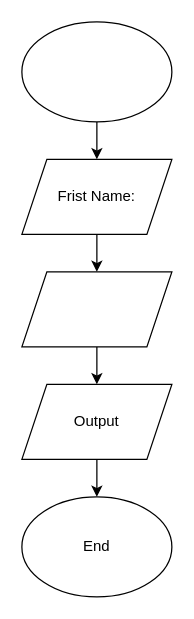
This 194x619 diagram has some shape labels left out. Each missing label, with the box of its shape:
Last Name:: (21, 271, 172, 347)
start: (21, 21, 172, 122)
